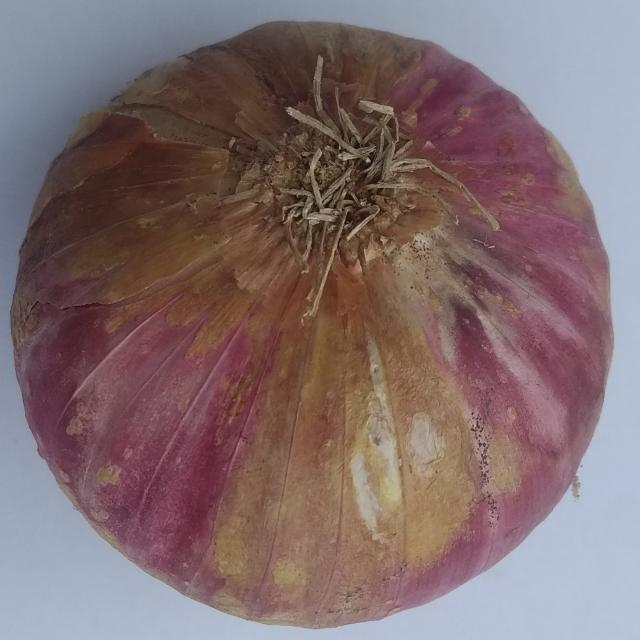onion: (9, 19, 615, 630)
